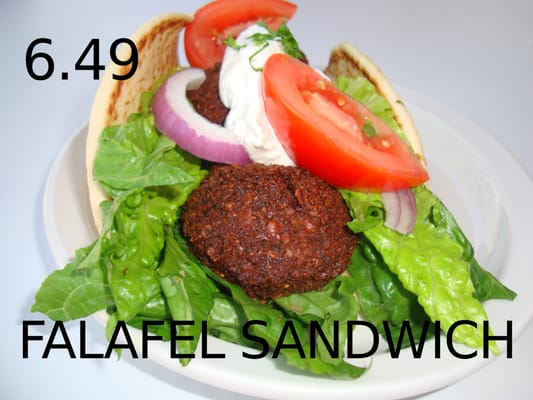pizza: (261, 49, 429, 194)
